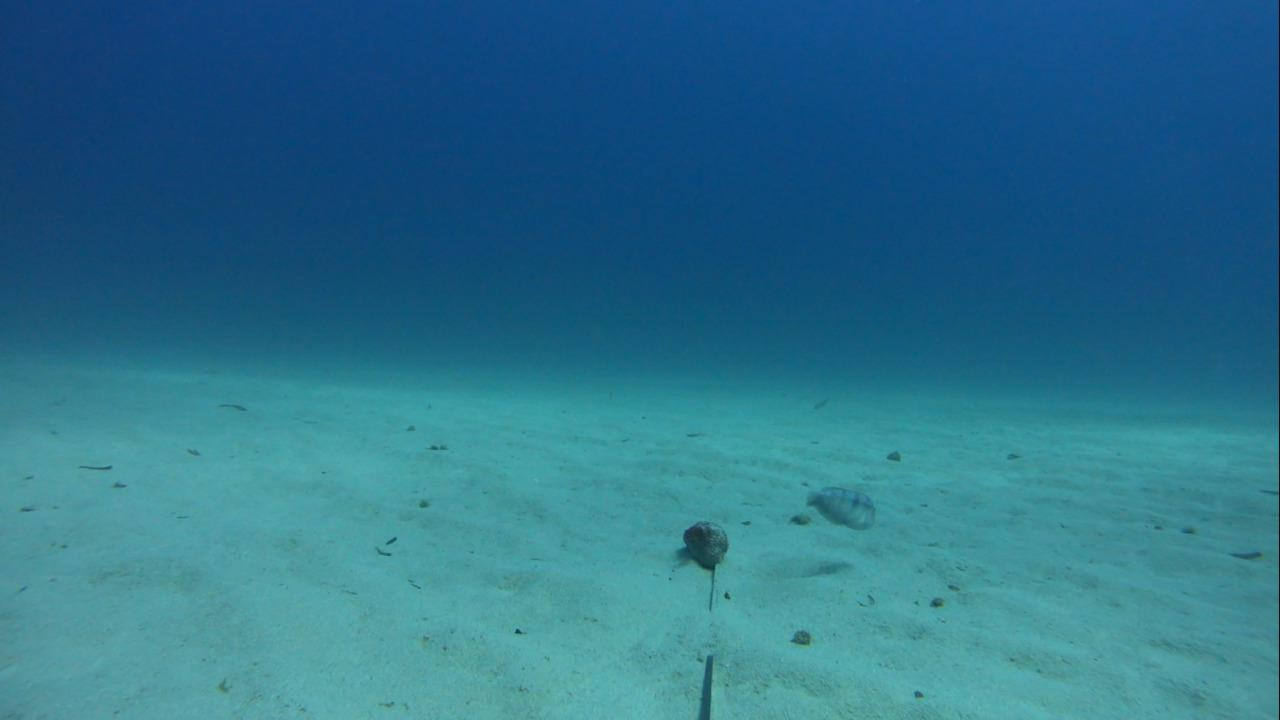raor: (800, 480, 880, 533)
